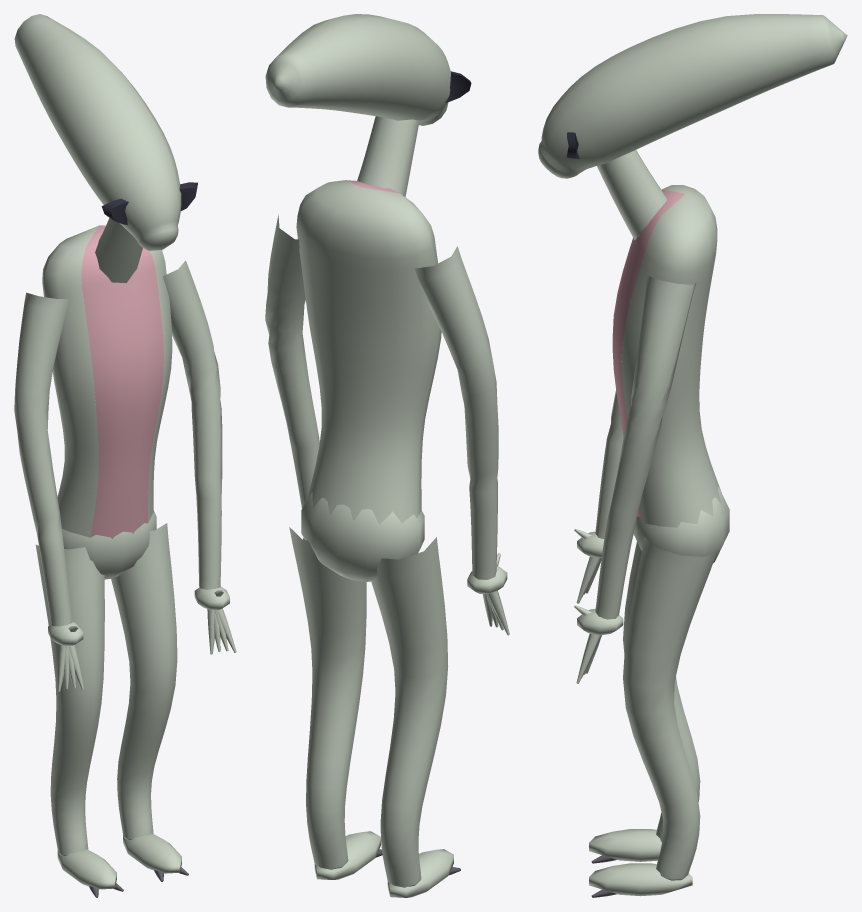
The model's file is xeno-species-and-alien-creatures-elder-xeno-elongated--5a012e26__21108.glb.
The picture shows the model from 3 angles, left to right: view 1: azimuth 30°, elevation 25°; view 2: azimuth 150°, elevation 25°; view 3: azimuth 270°, elevation 25°; orthographic projection. The views are drawn at different scales.
Visible parts, largest first — view 1: elder-xeno-elongated-cranium; view 2: elder-xeno-elongated-cranium; view 3: elder-xeno-elongated-cranium.
Boxes of the visible parts, x1,y1,x2,y2 form: elder-xeno-elongated-cranium: [14, 14, 236, 897]; elder-xeno-elongated-cranium: [265, 14, 509, 897]; elder-xeno-elongated-cranium: [538, 14, 847, 897].
Size of the model in its own units: 0.5414 by 2.05 by 0.6705.
